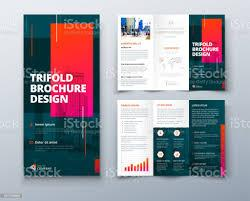paper: (24, 14, 101, 176), (114, 98, 225, 177), (118, 15, 226, 90)
